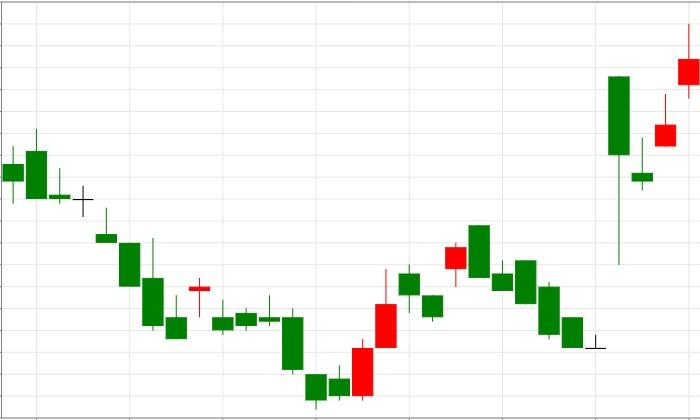bullish_engulfing_rise: (212, 294, 373, 410)
